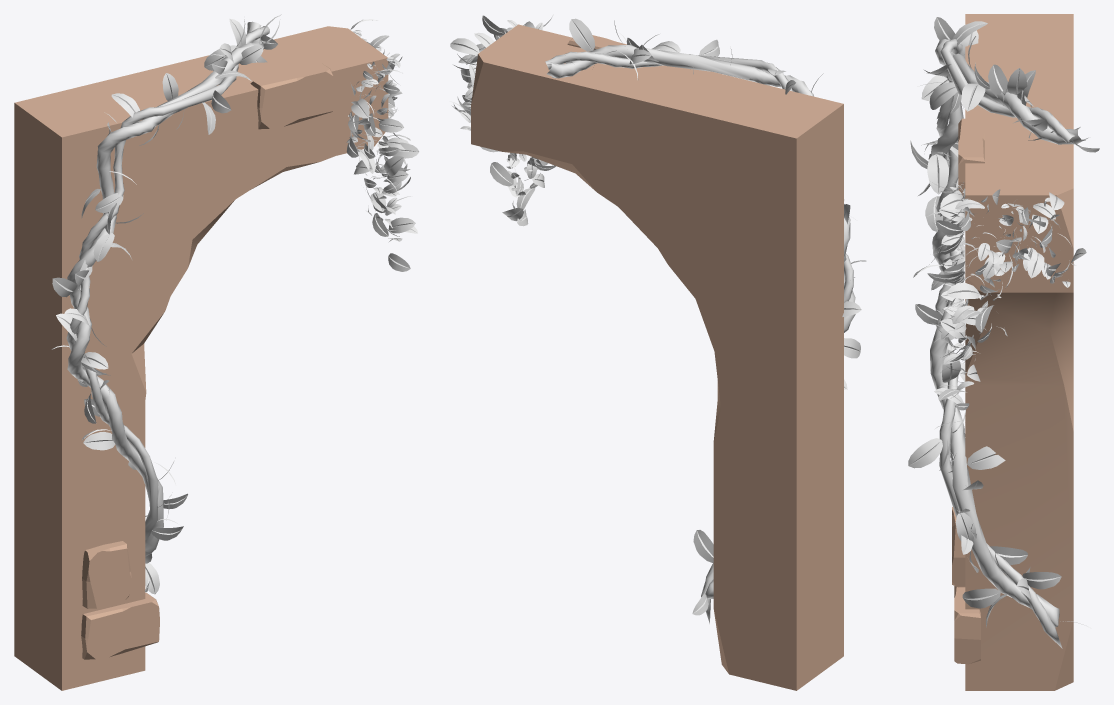
The model's file is wall_thick_arc2.gltf.
3 views of the same model, side by side, from view 1: azimuth 30°, elevation 25°; view 2: azimuth 150°, elevation 25°; view 3: azimuth 270°, elevation 25° (orthographic). The views are drawn at different scales.
Visible parts, largest first — view 1: Wall thick arc, Liana arch, Cube.011, Cube, Cube.003; view 2: Wall thick arc, Liana arch; view 3: Wall thick arc, Liana arch, Cube, Cube.011, Cube.003, Leaf for particle.605, Leaf for particle.603, Leaf for particle.567, Leaf for particle.580, Leaf for particle.535, Leaf for particle.587, Leaf for particle.573 (+11 smaller).
Boxes of the visible parts, x1=… form: Wall thick arc: x1=14, y1=26, x2=388, y2=690; Liana arch: x1=66, y1=21, x2=269, y2=552; Cube.011: x1=250, y1=62, x2=334, y2=129; Cube: x1=81, y1=592, x2=159, y2=659; Cube.003: x1=82, y1=541, x2=131, y2=608; Wall thick arc: x1=471, y1=24, x2=843, y2=690; Liana arch: x1=545, y1=45, x2=855, y2=623; Wall thick arc: x1=965, y1=14, x2=1073, y2=690; Liana arch: x1=930, y1=39, x2=1088, y2=648; Cube: x1=954, y1=586, x2=980, y2=664; Cube.011: x1=958, y1=118, x2=984, y2=198; Cube.003: x1=952, y1=507, x2=965, y2=587; Leaf for particle.605: x1=927, y1=154, x2=948, y2=194; Leaf for particle.603: x1=908, y1=438, x2=942, y2=468; Leaf for particle.567: x1=967, y1=446, x2=1005, y2=469; Leaf for particle.580: x1=962, y1=588, x2=1000, y2=608; Leaf for particle.535: x1=1022, y1=572, x2=1061, y2=589; Leaf for particle.587: x1=961, y1=83, x2=985, y2=111; Leaf for particle.573: x1=929, y1=82, x2=957, y2=109.
Size of the model in its own units: 4.6 by 7.06 by 1.78.
